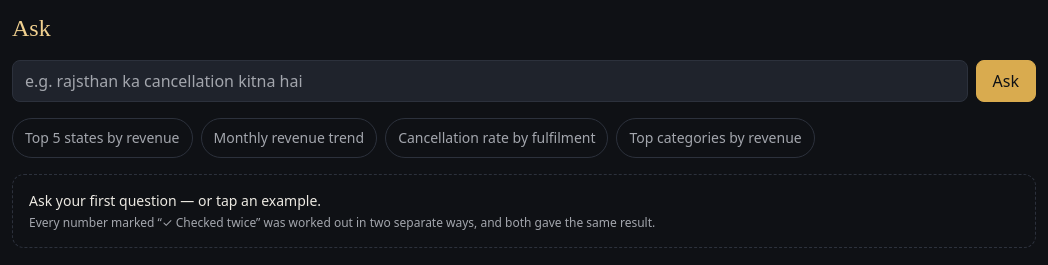
Test: Ask button › an example chip only fills the box and focuses it; it never sends
Click the button "Monthly revenue trend".
click(289, 138)  # box [200,118,377,158]
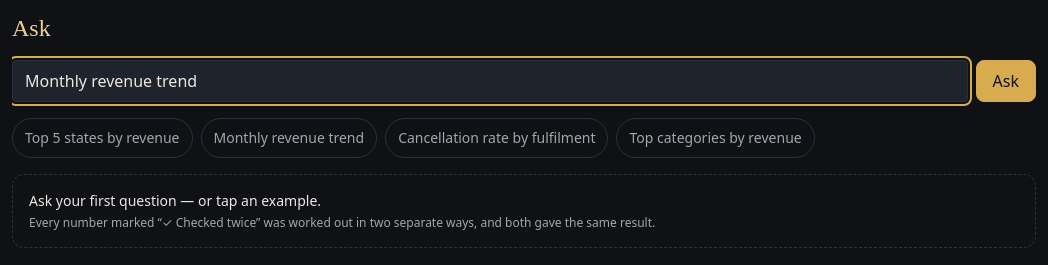
expect the text box named "Your question" holds "Monthly revenue trend": met, box [12,60,968,102]
